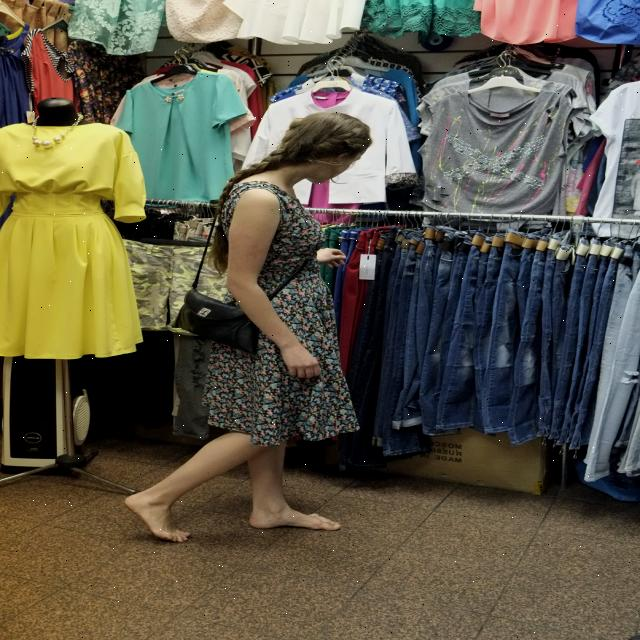No Safety Boots: (124, 493, 190, 542), (250, 509, 342, 531)
